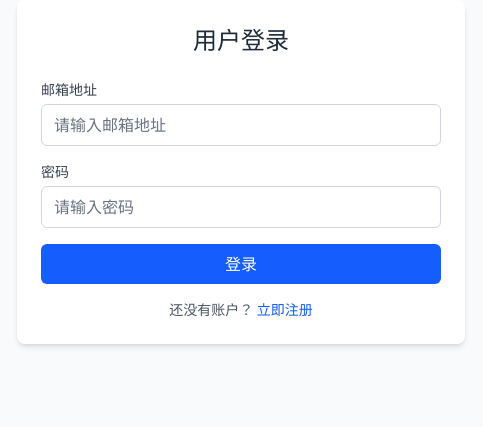
Scenario: LoginForm组件 › 登录功能 › 应该处理登录失败
Type "wrong@example.com" into the field labelled "邮箱地址" at (241, 125), box [41,104,441,146]
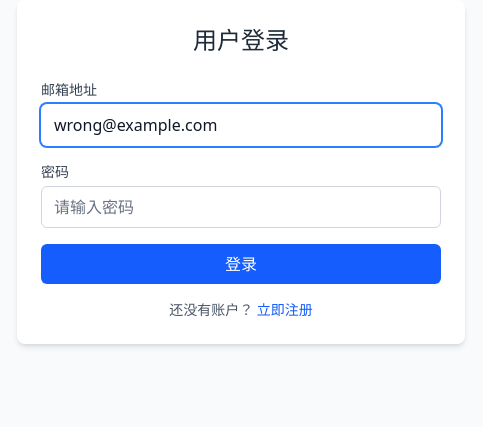
Type "WrongPassword" into the password field labelled "密码" at (241, 207), box [41,186,441,228]
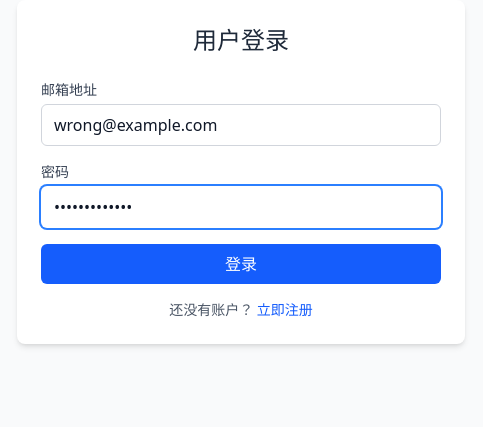
Click the button "登录" at (241, 264), box [41,244,441,284]
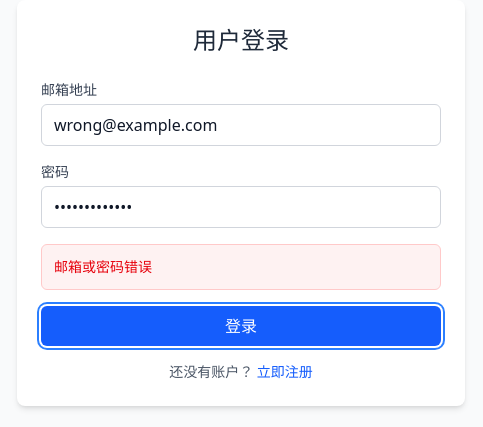
expect the text "邮箱或密码错误" is shown: met, box [54,257,152,276]
